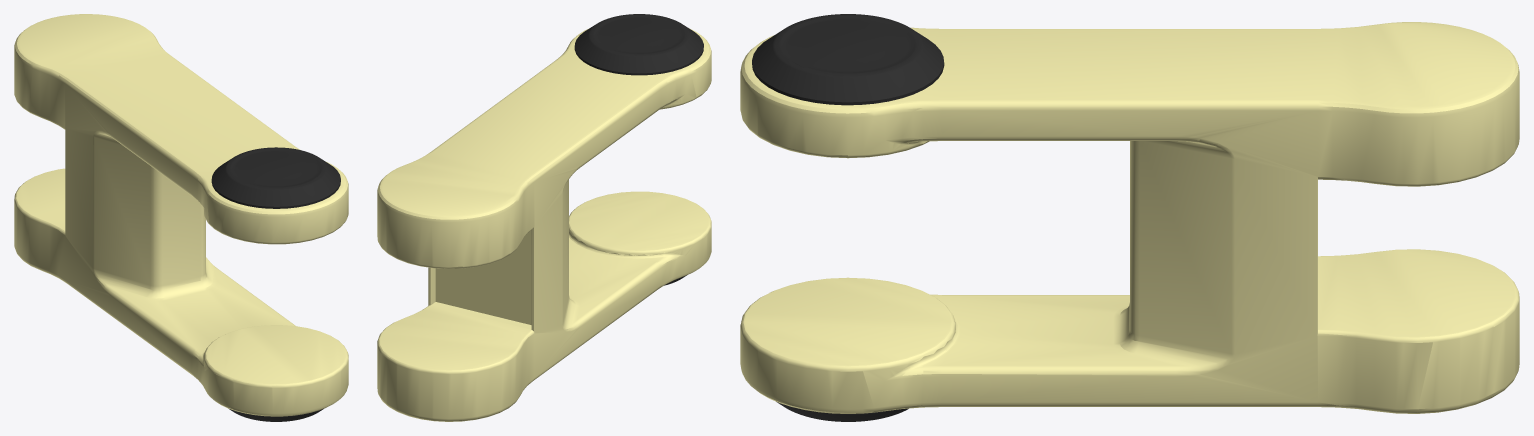
The model's file is ankle_pitch_link.glb.
3 renders of one model, left to right at view 1: azimuth 30°, elevation 25°; view 2: azimuth 150°, elevation 25°; view 3: azimuth 270°, elevation 25°, orthographic. The views are drawn at different scales.
Visible parts, largest first — view 1: Mesh_0.013; view 2: Mesh_0.013; view 3: Mesh_0.013.
Part boxes in pixels (bbox=[...]): Mesh_0.013: bbox=[14, 14, 348, 421]; Mesh_0.013: bbox=[377, 14, 711, 421]; Mesh_0.013: bbox=[740, 14, 1519, 421].
Size of the model in its own units: 0.13 by 0.234 by 0.47.
Materials: 2 (1 with a texture image).
